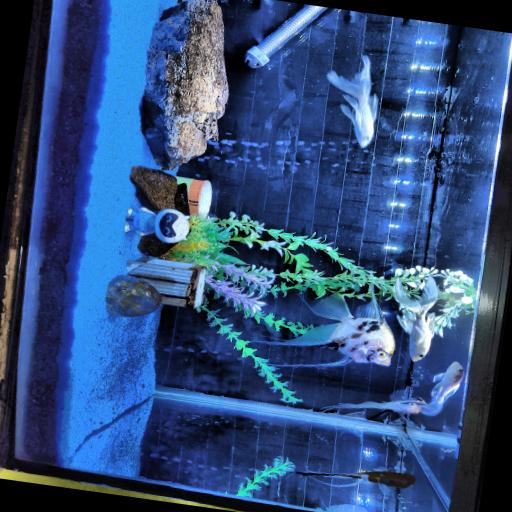Fish: (262, 285, 394, 366), (327, 55, 377, 146), (393, 276, 437, 360), (420, 361, 463, 415), (296, 470, 414, 487), (322, 398, 425, 413), (325, 503, 367, 511)
